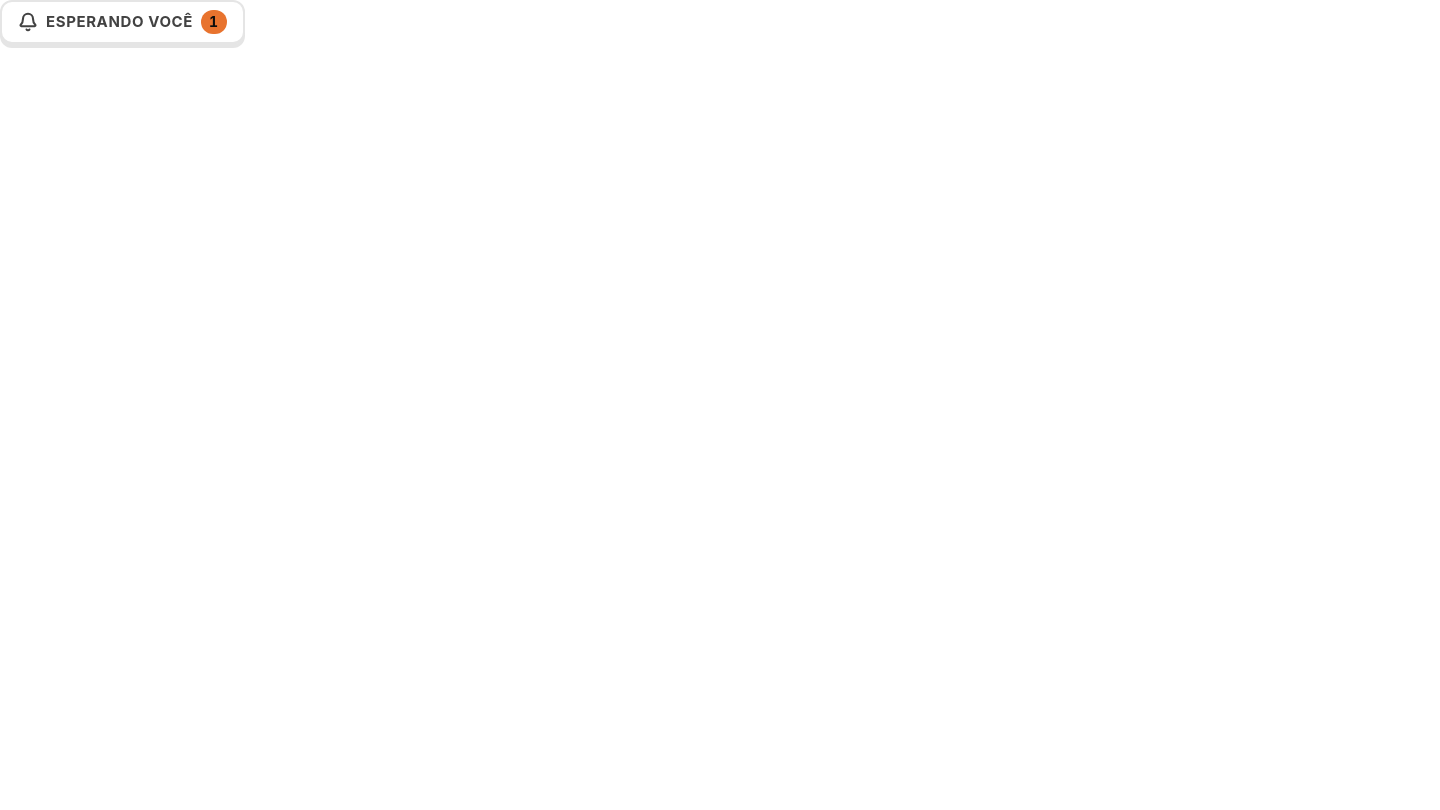
Test: a lista "Esperando você" › só aparece o grupo que tem item
Click the button with aria-label "Esperando você, 1" at (122, 22), box [0,0,245,44]
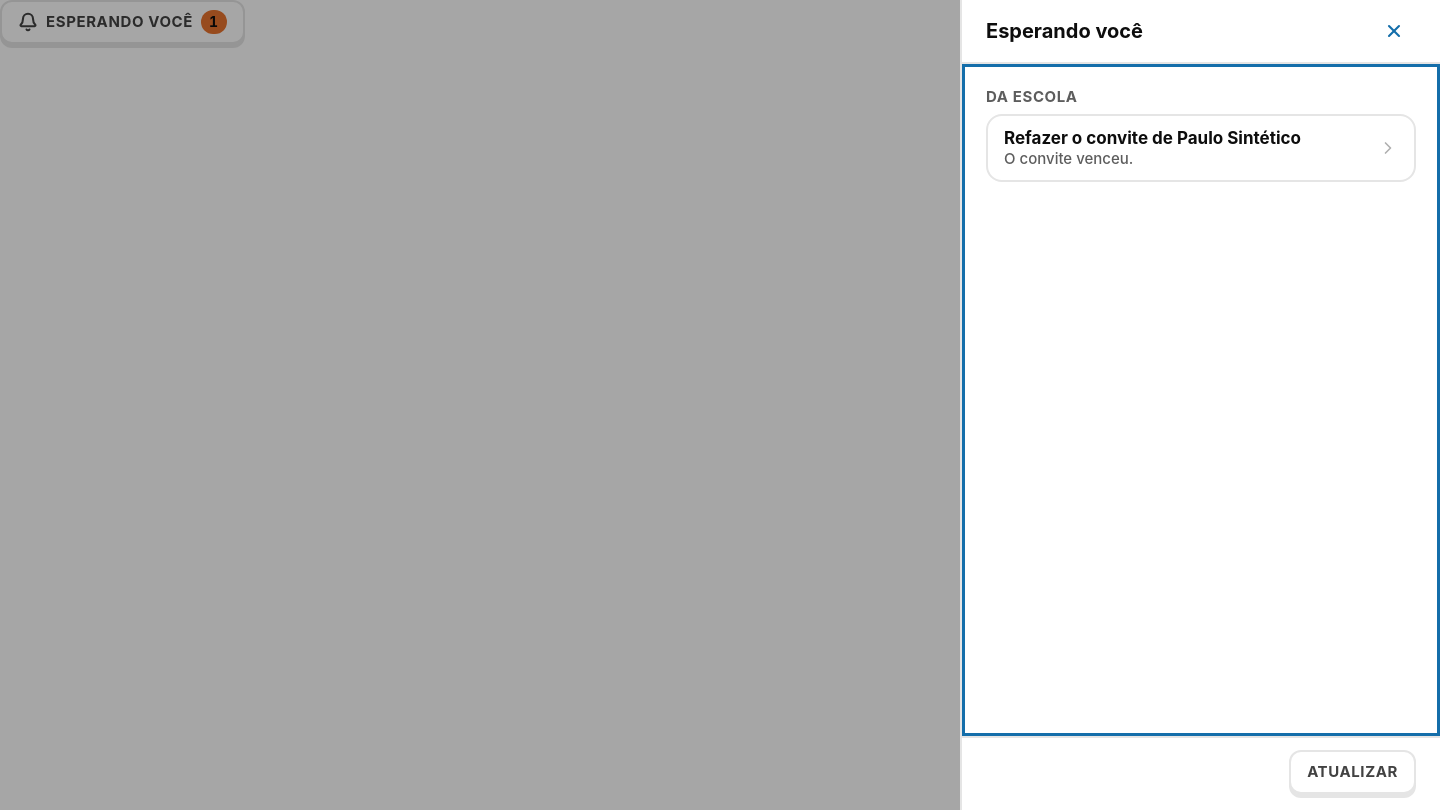
Check: the element "Da escola" is shown, box [986,88,1416,182]
